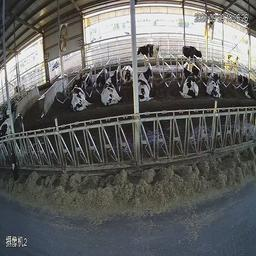cow: (6, 104, 26, 188), (66, 73, 94, 114), (173, 62, 199, 103), (99, 70, 125, 106), (136, 37, 162, 71), (138, 64, 158, 104), (179, 39, 208, 65), (205, 66, 226, 101), (222, 46, 239, 76), (237, 70, 253, 100), (117, 59, 131, 86), (95, 64, 106, 87)
